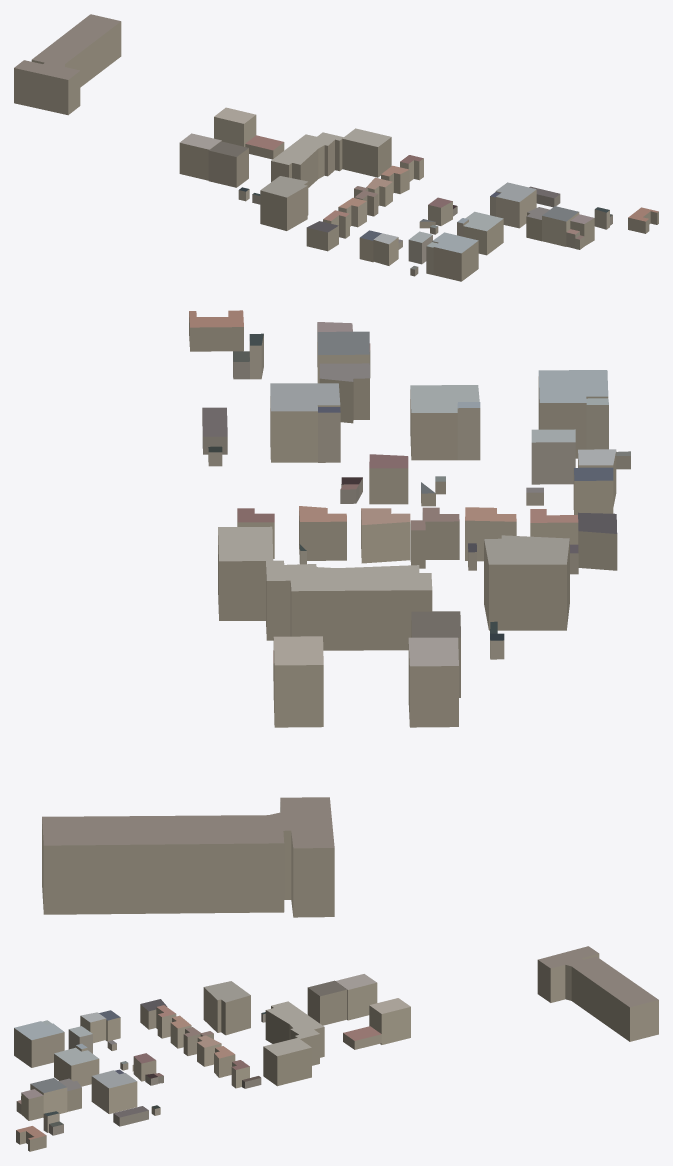
3 renders of one model, top to bottom at view 1: azimuth 30°, elevation 25°; view 2: azimuth 150°, elevation 25°; view 3: azimuth 270°, elevation 25°, orthographic. The views are drawn at different scales.
Parts seen in each view (by area): view 1: tuile; view 2: tuile; view 3: tuile.
Part boxes in pixels (x1,y1,x2,y2): tuile: (14,14,658,281); tuile: (42,310,630,917); tuile: (14,946,658,1151).
Bounding box in the file's own units: 194 × 19.6 × 308.
